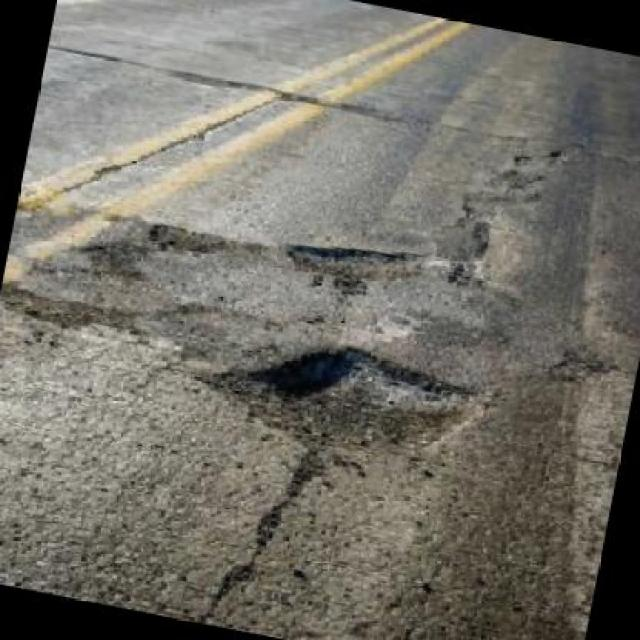pothole1: (193, 318, 496, 482), (0, 274, 148, 348), (274, 225, 428, 292), (139, 214, 239, 260)
